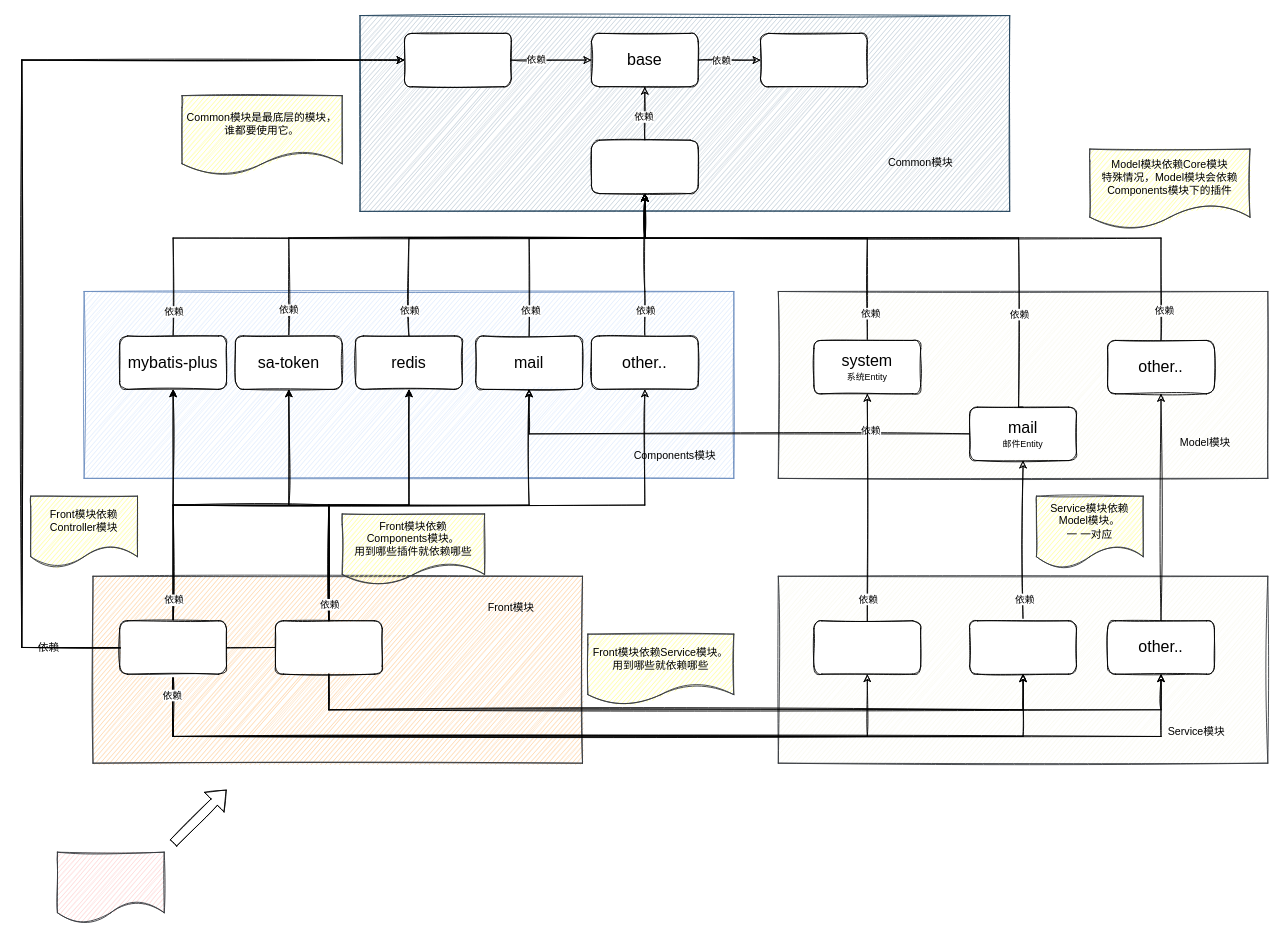
Some shapes in this 1283 by 939 pixel diagram are drawn without their labels. Each missing label, with the centre of its shape:
"Admin 系统后台" belongs at (328,647).
"annotation 通用注解" belongs at (813,59).
"controller 通用Controller" belongs at (457,59).
"core" belongs at (644,166).
"mail 邮件Service、Dao" belongs at (1022,647).
"Quartz 定时任务后台" belongs at (173,647).
"system 系统Service、Dao" belongs at (867,647).
"从这里开始看" belongs at (110,887).
